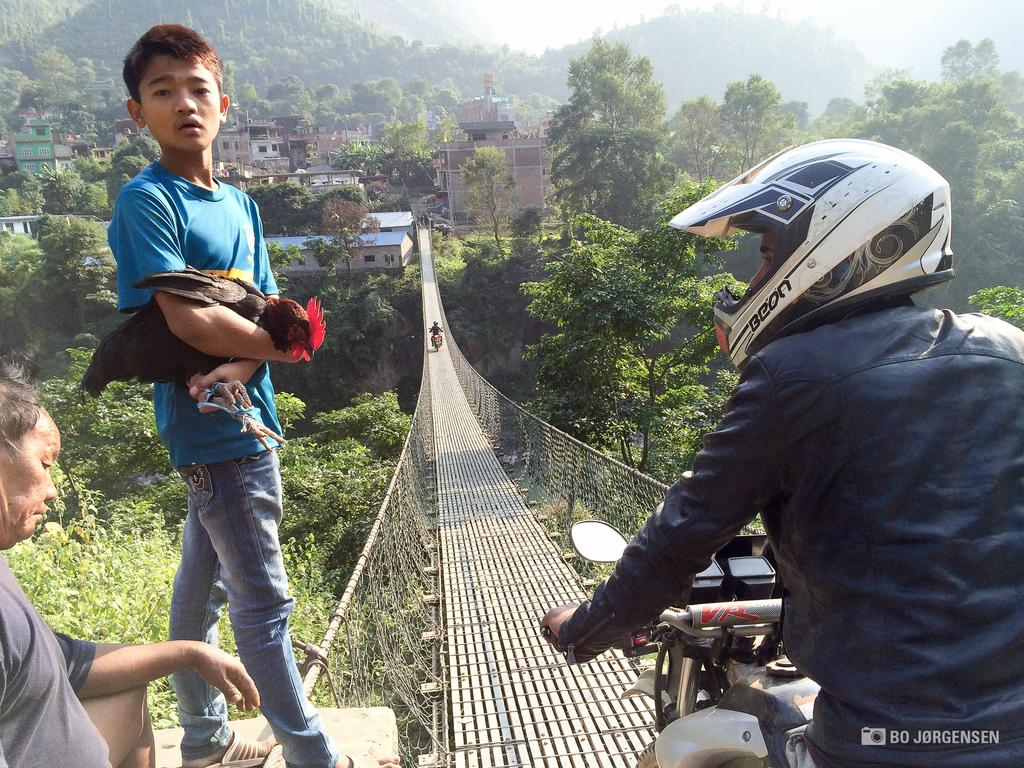helmet: (667, 138, 954, 372), (432, 320, 439, 326)
nohelmet: (120, 22, 231, 158), (0, 360, 62, 549)
